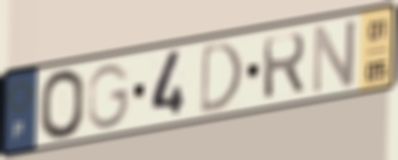4: (147, 47, 192, 124)
D: (197, 38, 245, 119)
G: (86, 62, 133, 133)
N: (309, 16, 359, 99)
O: (37, 67, 88, 143)
R: (260, 30, 309, 103)
